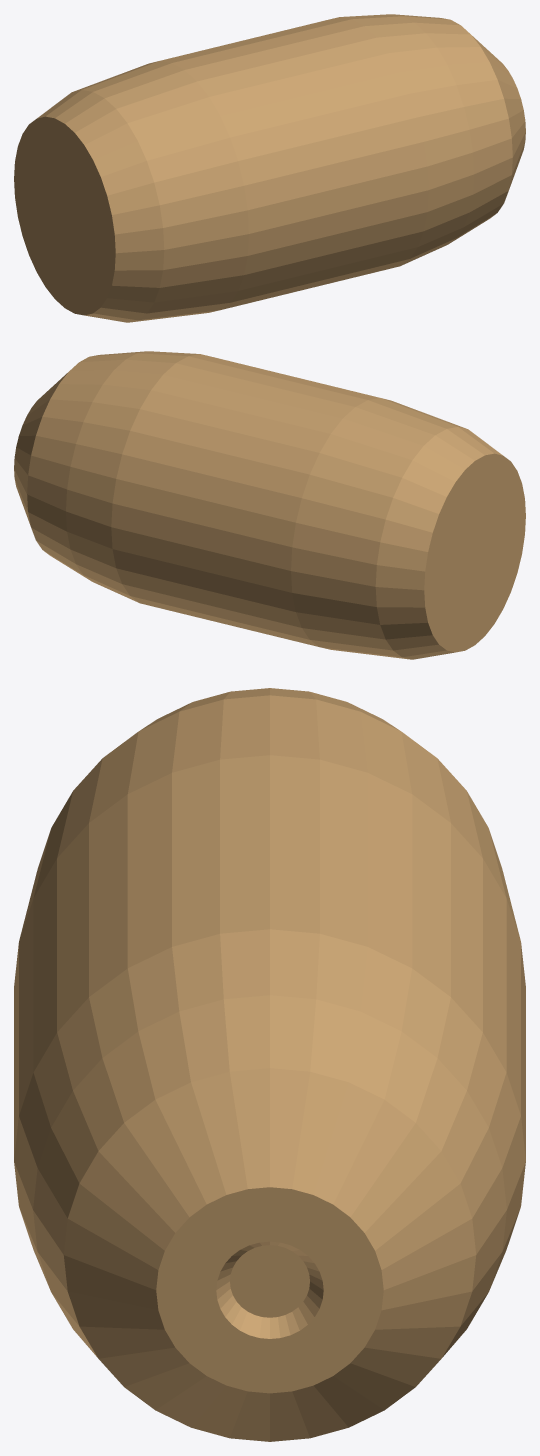
The model's file is assaultRifleBullet.fbx.
The picture shows the model from 3 angles, top to bottom: view 1: azimuth 30°, elevation 25°; view 2: azimuth 150°, elevation 25°; view 3: azimuth 270°, elevation 25°; orthographic projection. The views are drawn at different scales.
Parts seen in each view (by area): view 1: Cylinder; view 2: Cylinder; view 3: Cylinder.
Boxes of the visible parts, x1,y1,x2,y2 form: Cylinder: [14, 14, 525, 322]; Cylinder: [14, 351, 525, 659]; Cylinder: [14, 688, 525, 1441].
Size of the model in its own units: 5.97 by 3.08 by 3.08.
